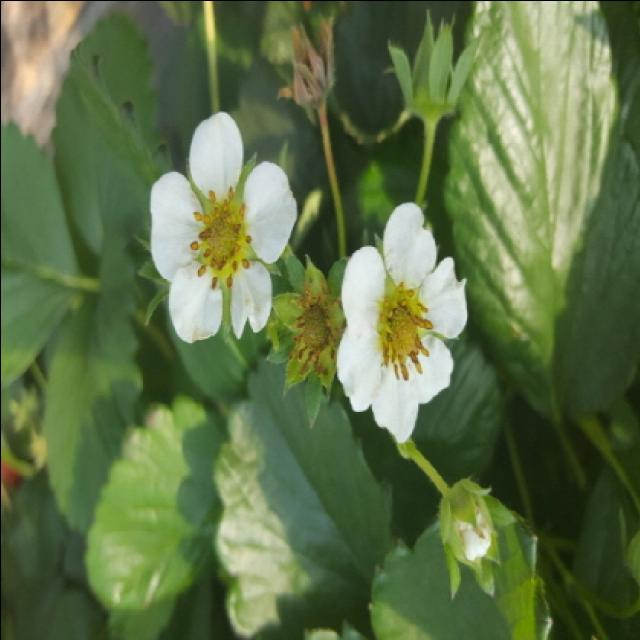Blossom Blight: (181, 178, 257, 294), (371, 275, 435, 385), (289, 294, 340, 377)
